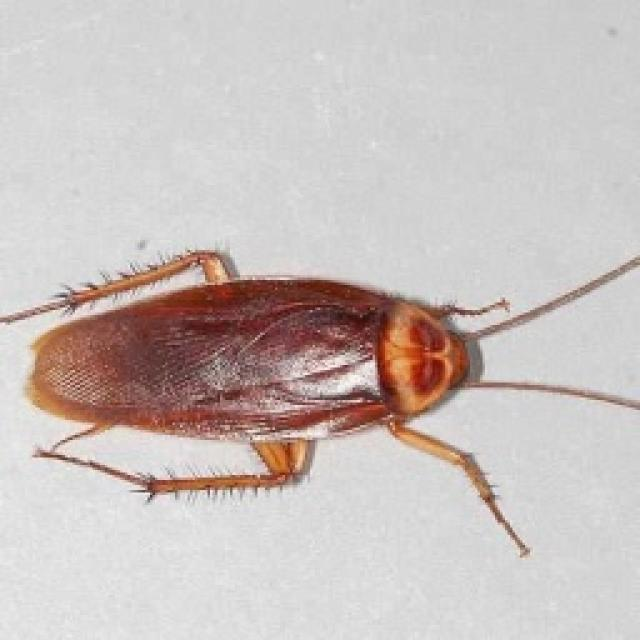cockroach: (2, 241, 636, 562)
